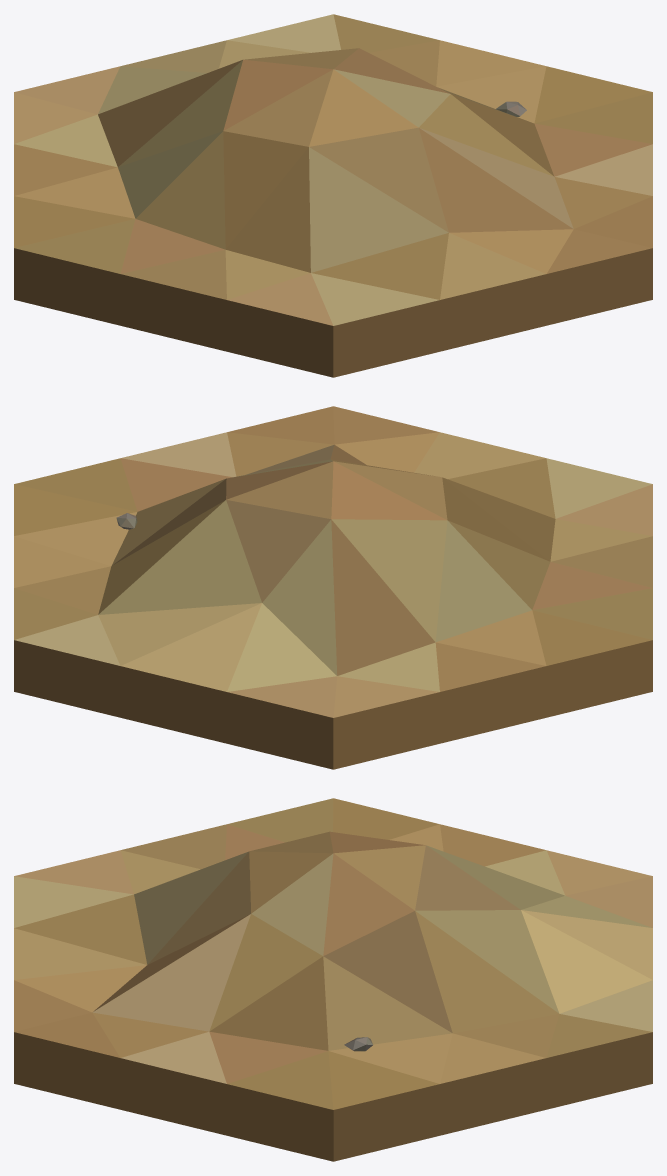
File: Desert Hill-Far.glb
3 renders of one model, top to bottom at view 1: azimuth 30°, elevation 25°; view 2: azimuth 150°, elevation 25°; view 3: azimuth 270°, elevation 25°, orthographic.
Visible parts, largest first — view 1: Desert Hill-Far; view 2: Desert Hill-Far; view 3: Desert Hill-Far.
Boxes of the visible parts, x1,y1,x2,y2 form: Desert Hill-Far: [14, 14, 652, 377]; Desert Hill-Far: [14, 406, 652, 769]; Desert Hill-Far: [14, 798, 652, 1161].
Size of the model in its own units: 1.94 by 0.4425 by 1.68.
